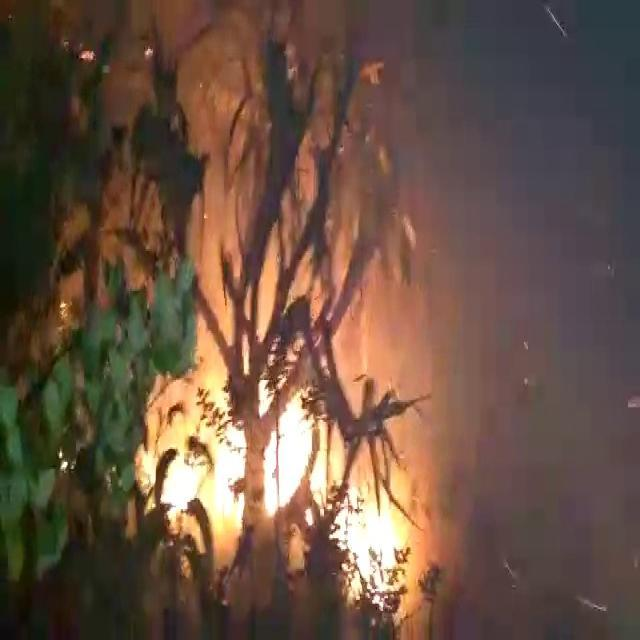Fire: (251, 356, 412, 598), (138, 354, 242, 548)
